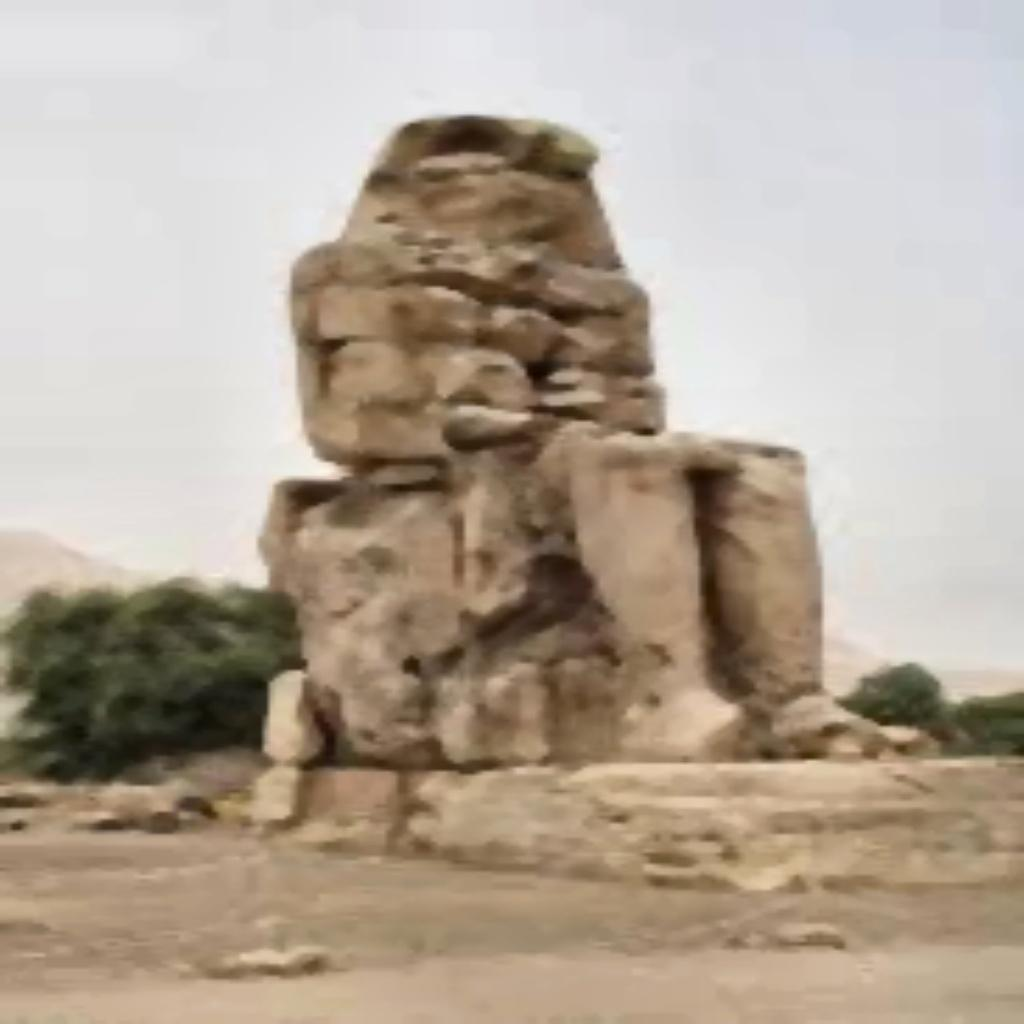Colossoi of Memnon: (241, 108, 940, 775)
